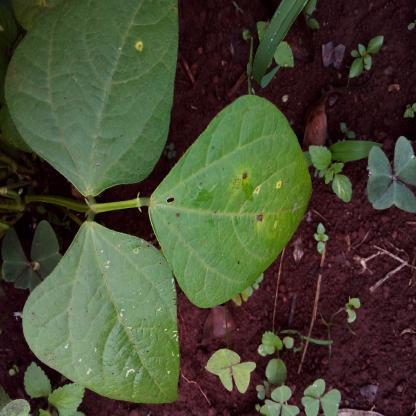Beans_Rust: (142, 95, 312, 308), (8, 0, 173, 195), (18, 219, 178, 404)
